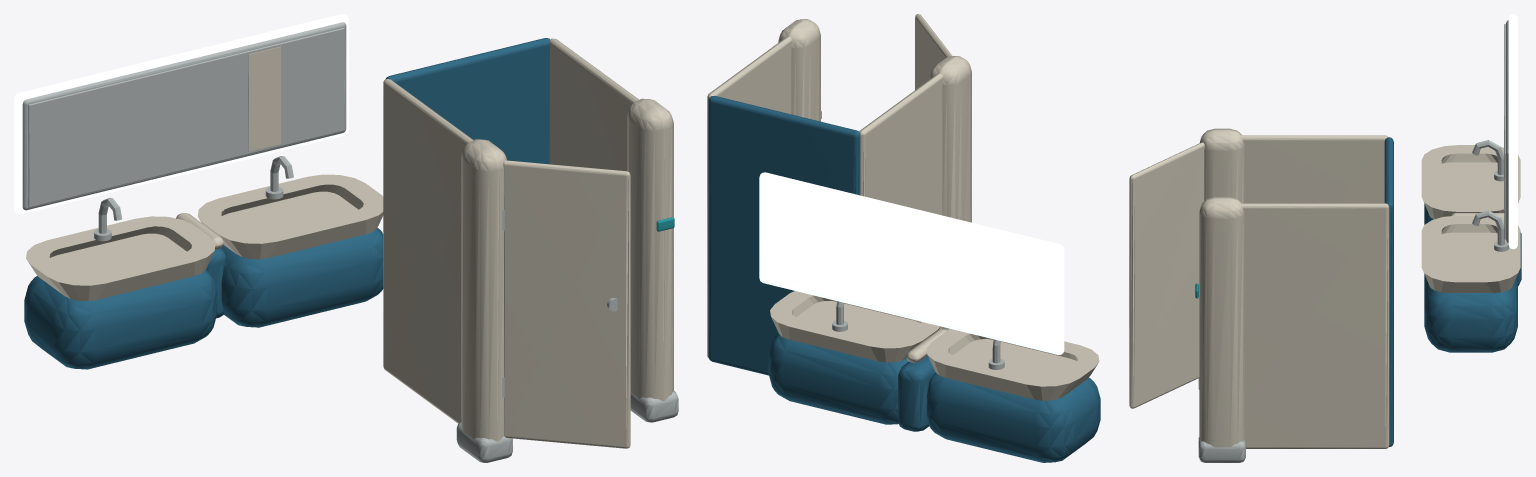
File: 13_restroom_advanced_assembly.glb
3 views of the same model, side by side, from view 1: azimuth 30°, elevation 25°; view 2: azimuth 150°, elevation 25°; view 3: azimuth 270°, elevation 25° (orthographic). The views are drawn at different scales.
Visible parts, largest first — view 1: 13_advanced_cubicle__Static, 13_advanced_washstand__Static, 13_advanced_mirror__Static, 13_advanced_cubicle__door_moving; view 2: 13_advanced_cubicle__Static, 13_advanced_washstand__Static, 13_advanced_mirror__Static, 13_advanced_cubicle__door_moving; view 3: 13_advanced_cubicle__Static, 13_advanced_washstand__Static, 13_advanced_cubicle__door_moving, 13_advanced_mirror__Static.
Boxes of the visible parts, x1,y1,x2,y2 form: 13_advanced_cubicle__Static: [383, 38, 678, 462]; 13_advanced_washstand__Static: [24, 156, 383, 369]; 13_advanced_mirror__Static: [14, 14, 348, 214]; 13_advanced_cubicle__door_moving: [503, 160, 630, 448]; 13_advanced_cubicle__Static: [707, 19, 971, 375]; 13_advanced_washstand__Static: [768, 291, 1100, 462]; 13_advanced_mirror__Static: [759, 172, 1064, 354]; 13_advanced_cubicle__door_moving: [915, 14, 952, 89]; 13_advanced_cubicle__Static: [1195, 128, 1393, 462]; 13_advanced_washstand__Static: [1421, 140, 1521, 352]; 13_advanced_cubicle__door_moving: [1129, 142, 1204, 408]; 13_advanced_mirror__Static: [1504, 14, 1517, 249].
Bounding box in the file's own units: 3.25 × 2 × 2.73.
